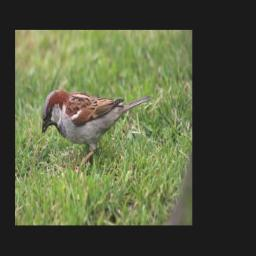Sparrow: (40, 88, 152, 175)
